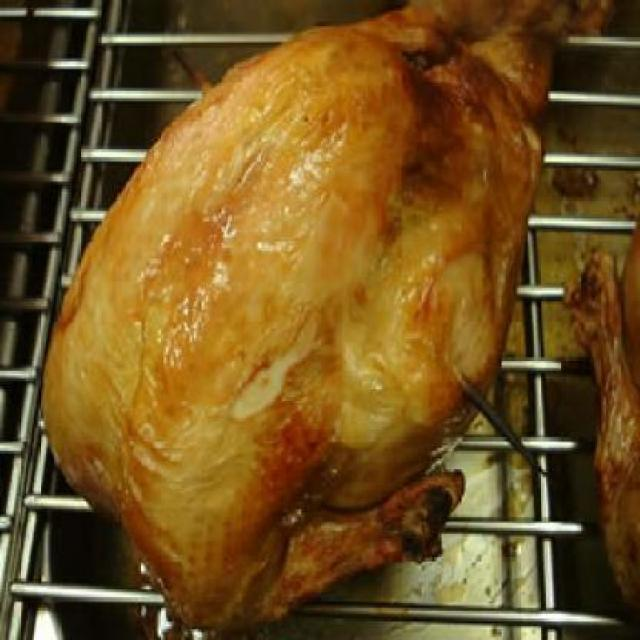Chicken roast: (64, 21, 528, 608)
